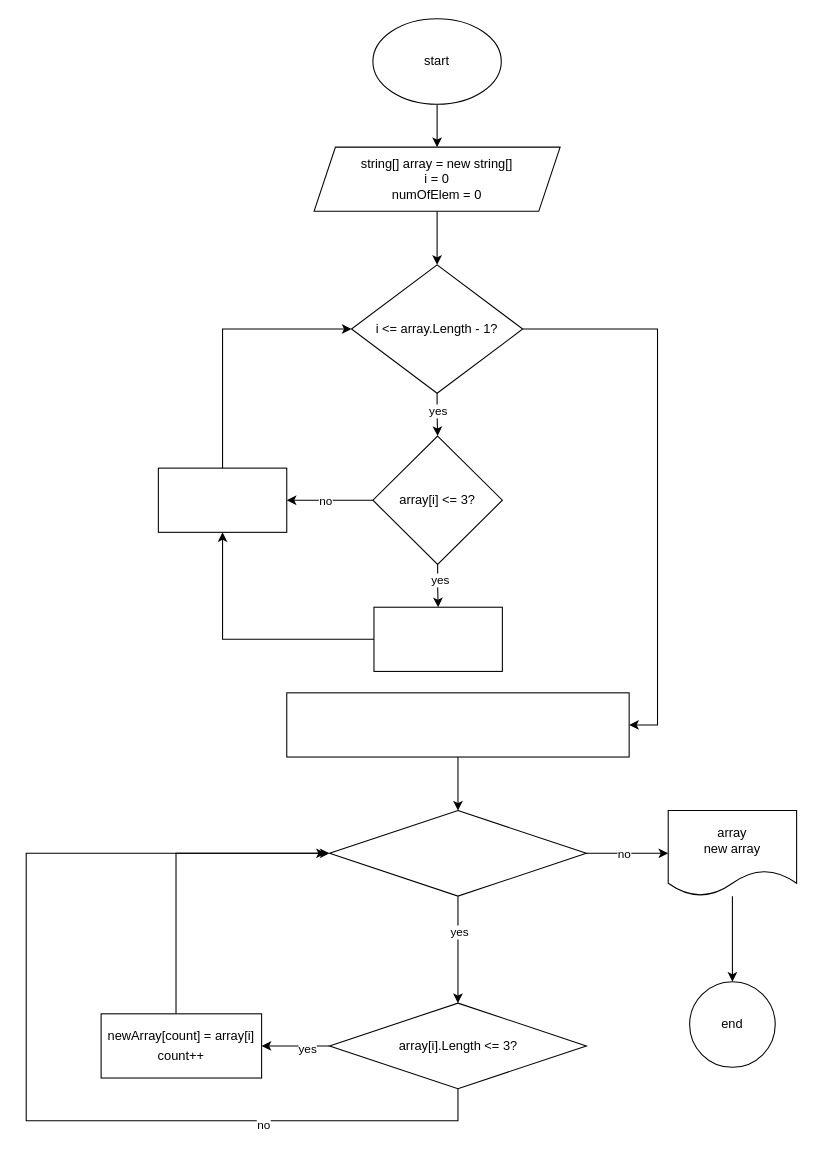
This 815x1150 diagram has some shape labels left out. Here are the shapes that lost their labels. From the top down, the box of each, then its label:
(157, 467, 287, 532): i++
(373, 606, 502, 671): numOfElem++
(286, 692, 629, 757): string[] newArray = new string[numOfElem] i = 0 count = 0
(328, 809, 586, 896): i <= array.Length ?
